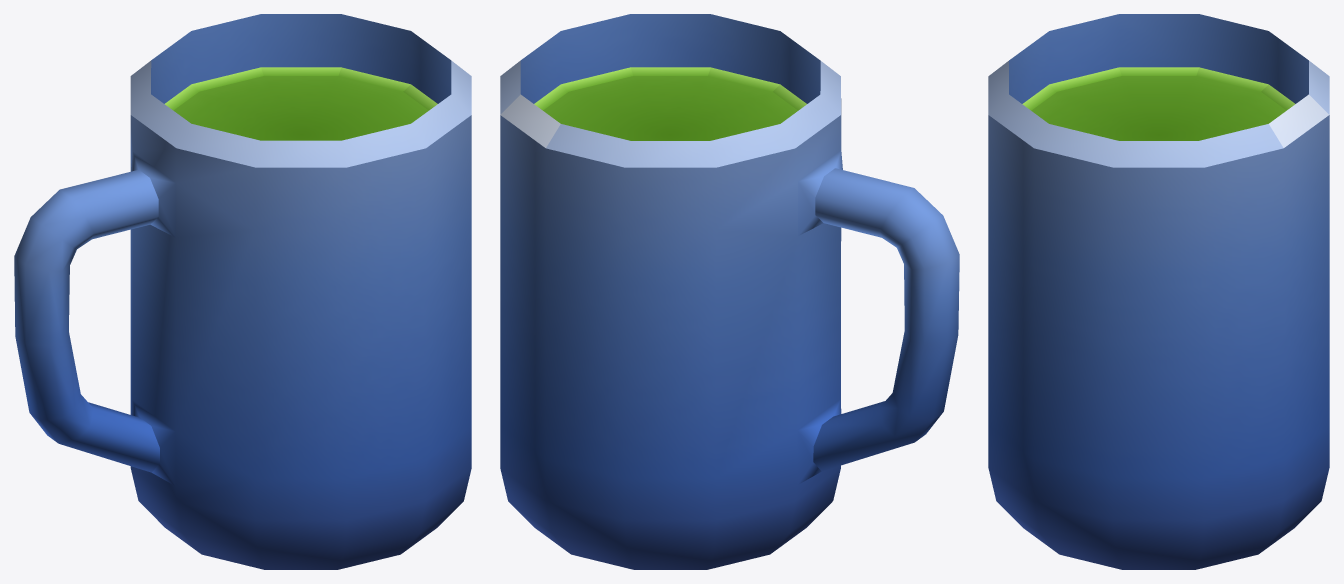
The model's file is m_GlassMug01_Tea02.fbx.
3 views of the same model, side by side, from view 1: azimuth 30°, elevation 25°; view 2: azimuth 150°, elevation 25°; view 3: azimuth 270°, elevation 25° (orthographic).
Parts seen in each view (by area): view 1: m_GlassMug01_Tea02; view 2: m_GlassMug01_Tea02; view 3: m_GlassMug01_Tea02.
Part boxes in pixels (box(x1,y1,x2,y2)): m_GlassMug01_Tea02: box(14, 14, 471, 569); m_GlassMug01_Tea02: box(500, 14, 959, 569); m_GlassMug01_Tea02: box(988, 14, 1329, 569).
Size of the model in its own units: 11.37 by 10.99 by 7.81.
